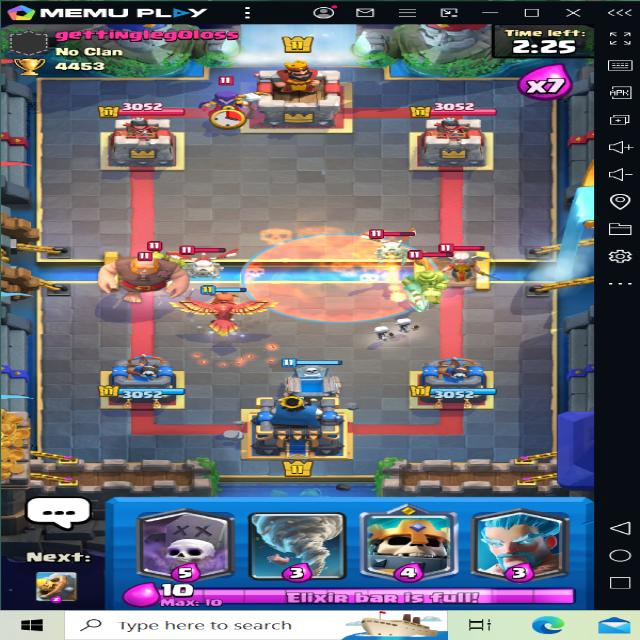battle-healer: (441, 245, 493, 284)
giant: (102, 248, 190, 302)
goblin-demolisher: (133, 240, 195, 270)
prince: (401, 262, 452, 308)
skeleton-dragon: (368, 230, 422, 264), (182, 249, 235, 281)
witch: (196, 77, 258, 128)
